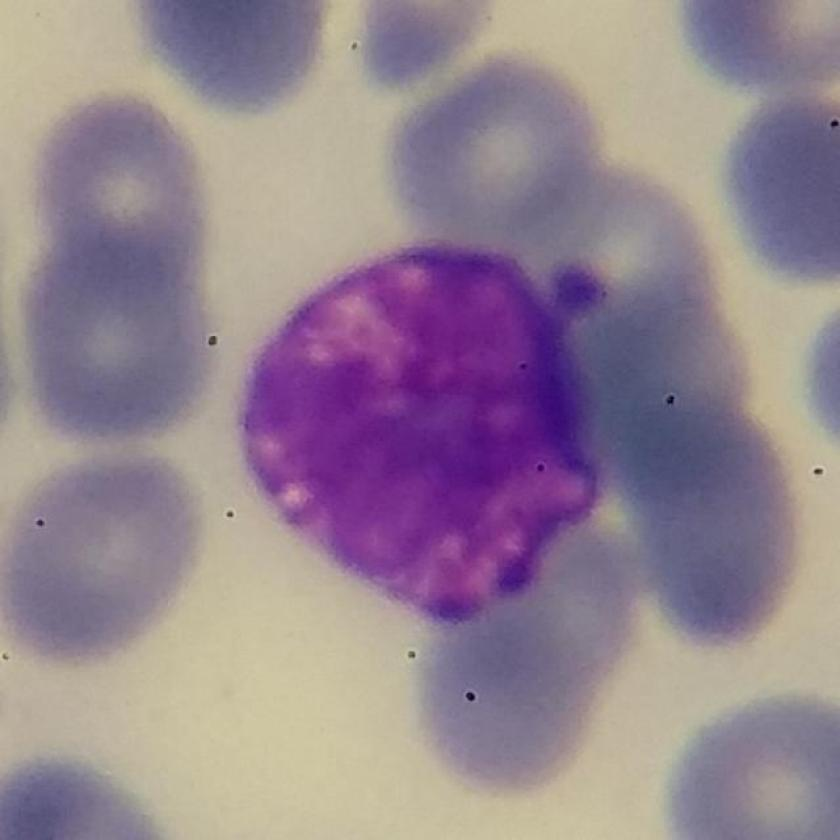basophil: (232, 241, 620, 638)
